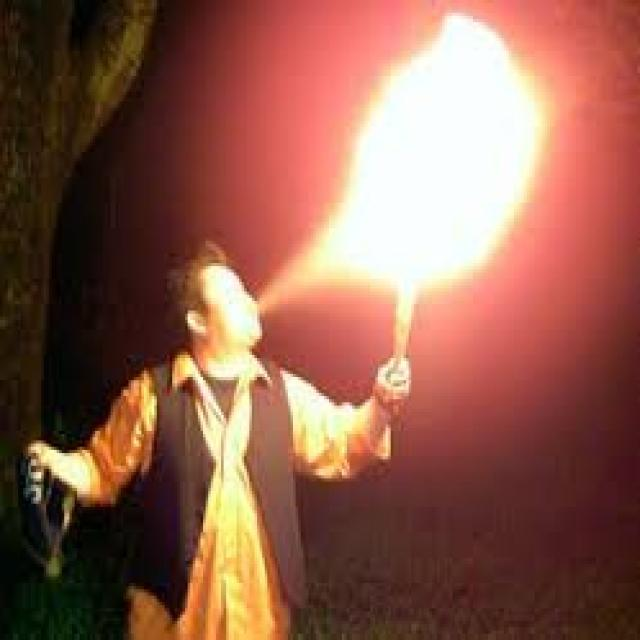fire: (292, 10, 556, 292)
